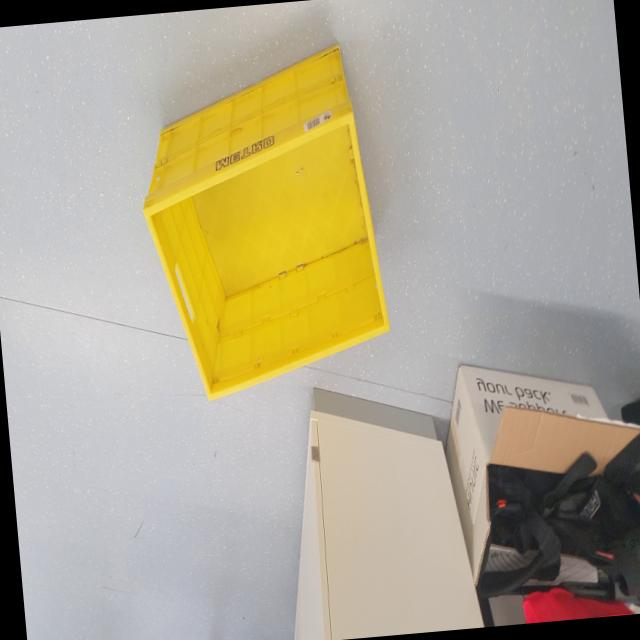box: (126, 22, 400, 414)
